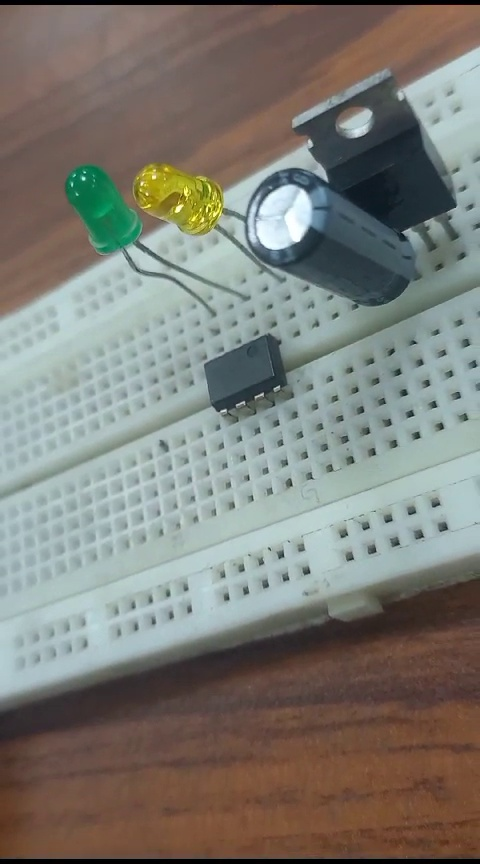IC: (196, 341, 292, 405)
LED: (50, 156, 140, 265), (132, 167, 224, 235)
capacitor: (244, 164, 416, 305)
voltage regulator: (299, 73, 458, 224)
